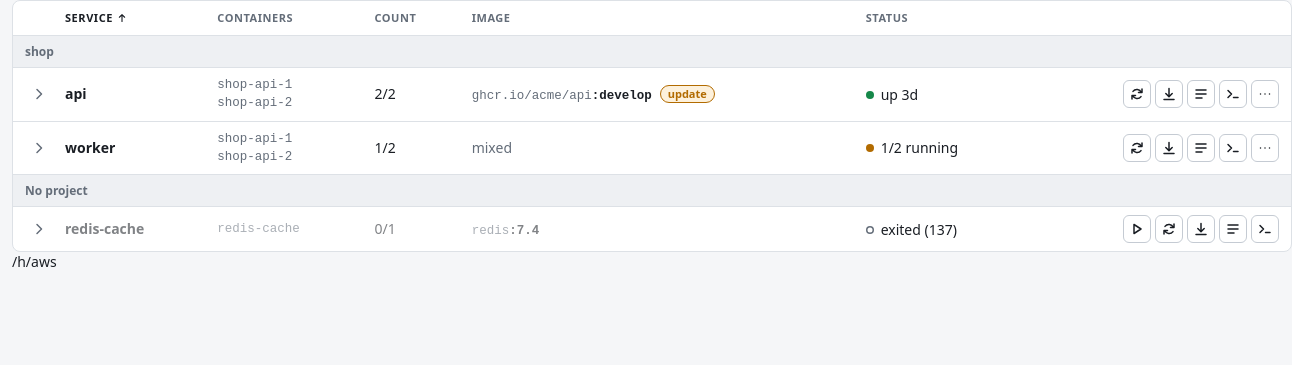
Test: the log under a row › the arrow at the start of a row shows the service’s log, live, right under that row
The image size is (1292, 365).
Click the button named "Show logs of api".
click(39, 94)  # box top-left (25, 80), bottom-right (53, 108)
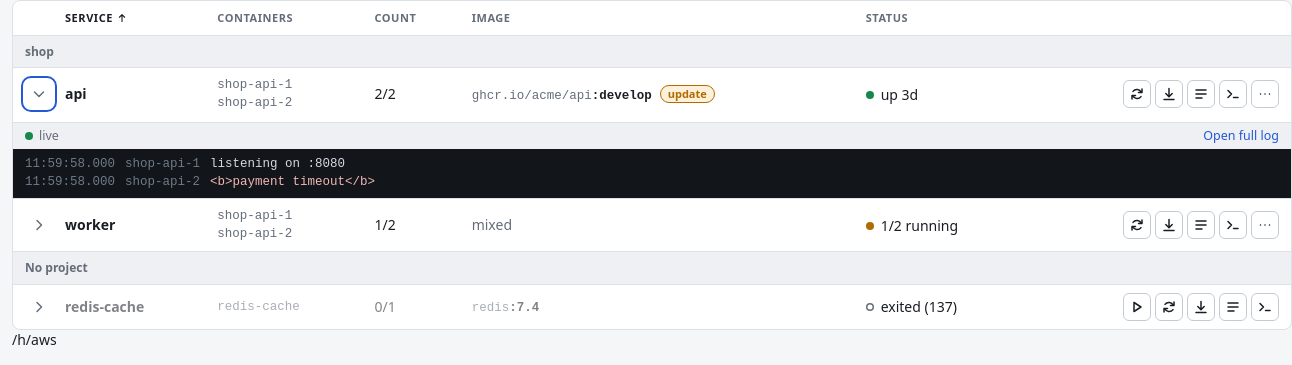
expect the text with test id "where" reads "/h/aws": met, box top-left (12, 330), bottom-right (57, 349)
expect the text "listening on :8080" is shown: met, box top-left (210, 157), bottom-right (345, 171)
